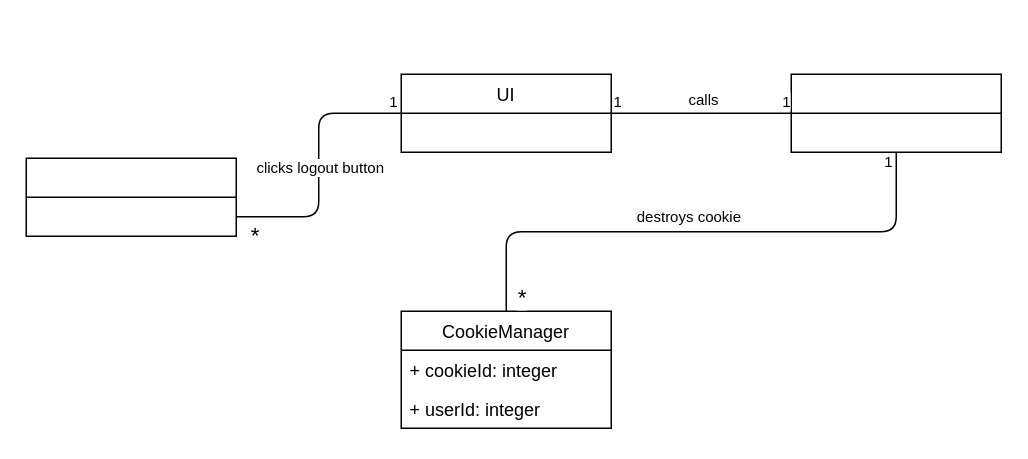
Some shapes in this 1028 by 459 pixel diagram are drawn without their labels. The centre of each missing label's shape, as x and y in pixels:
"API" goes at pixel 895 112.
"User" goes at pixel 130 196.
